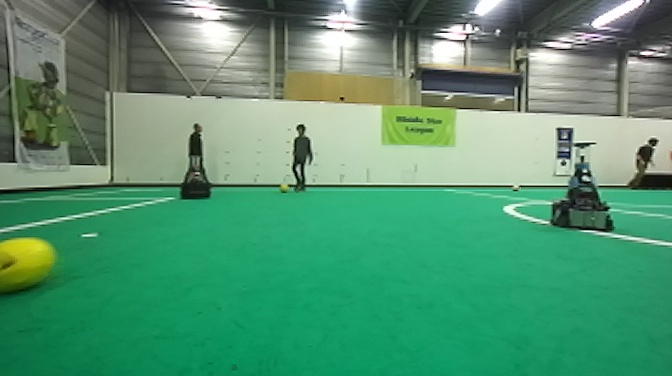ball: (1, 235, 55, 298), (277, 179, 289, 195), (510, 182, 522, 194)
human: (623, 134, 659, 189), (287, 122, 314, 191), (183, 121, 209, 191)
robot: (549, 139, 616, 232), (177, 153, 215, 201)
